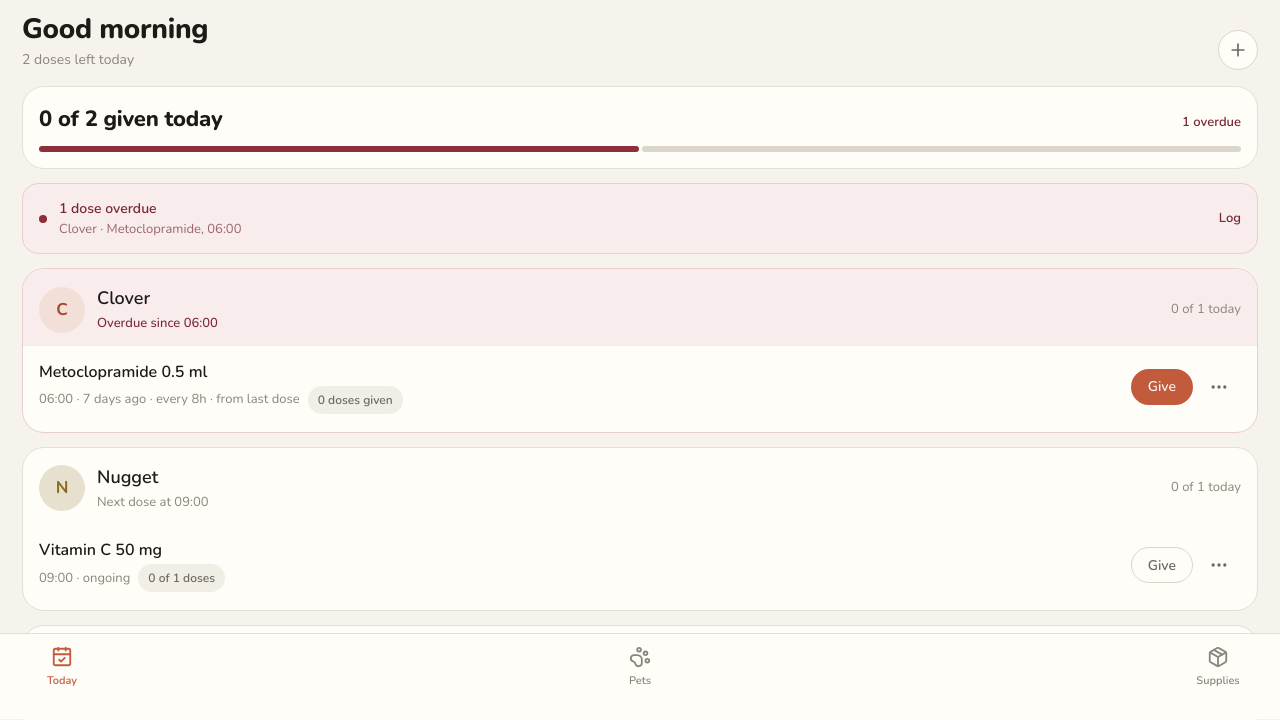
Test case: router › authenticated › switches screens via the tab bar
Expected: the heading "Good morning" is shown, x1=22 y1=14 x2=208 y2=45
Step 1. Click the button "Pets" → (640, 668), box x1=612 y1=642 x2=668 y2=694
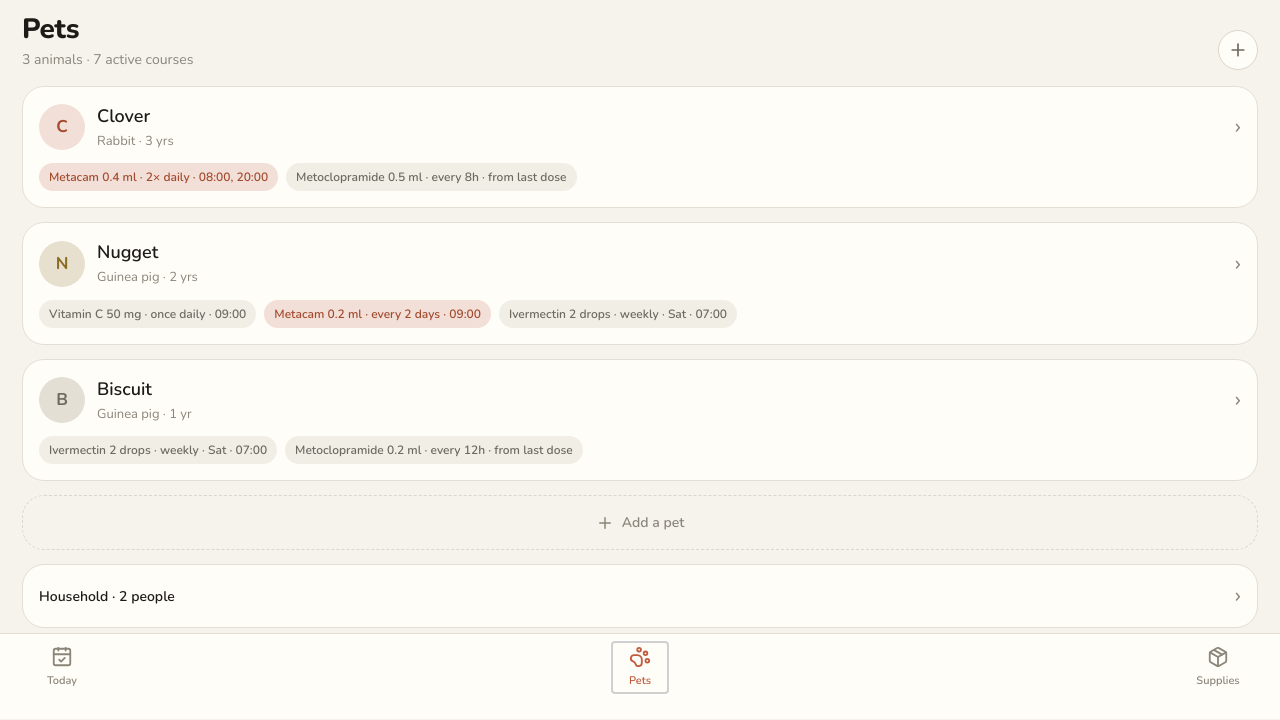
Now the heading "Pets" is shown, box x1=22 y1=10 x2=79 y2=48
Step 2. Click the button "Supplies" → (1218, 668), box x1=1190 y1=642 x2=1246 y2=694
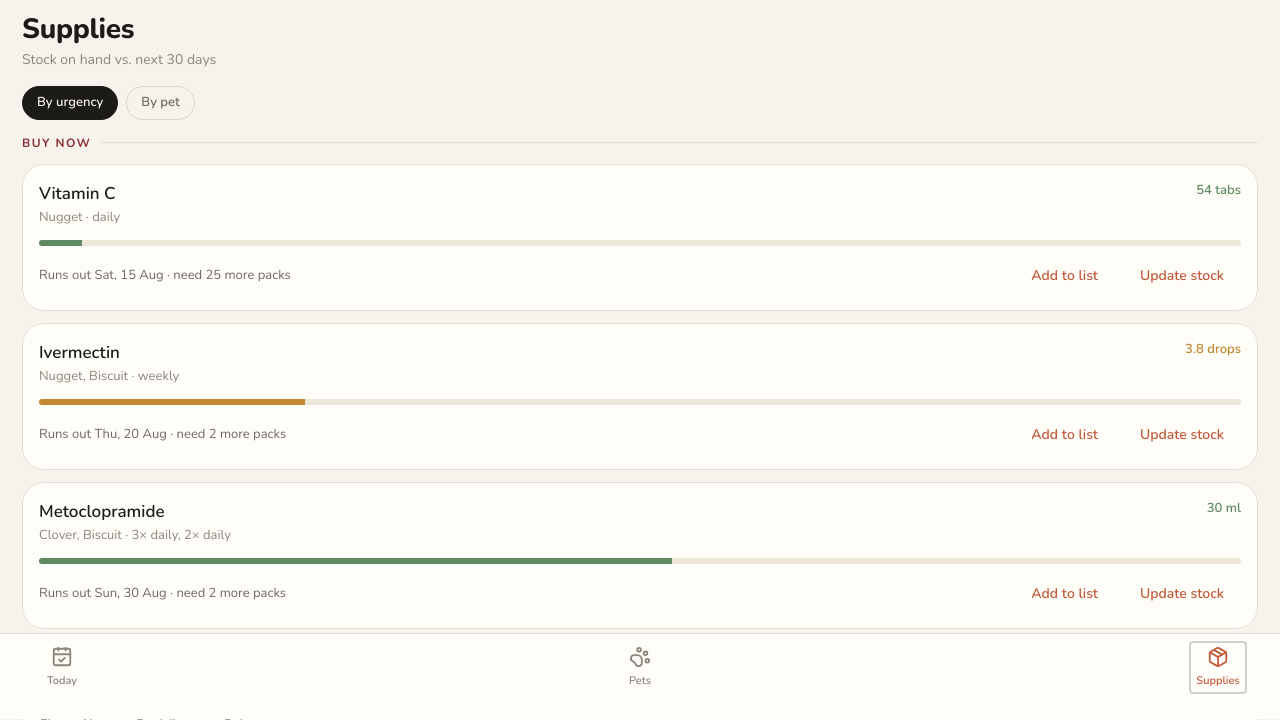
Now the heading "Supplies" is shown, box x1=22 y1=10 x2=134 y2=48
